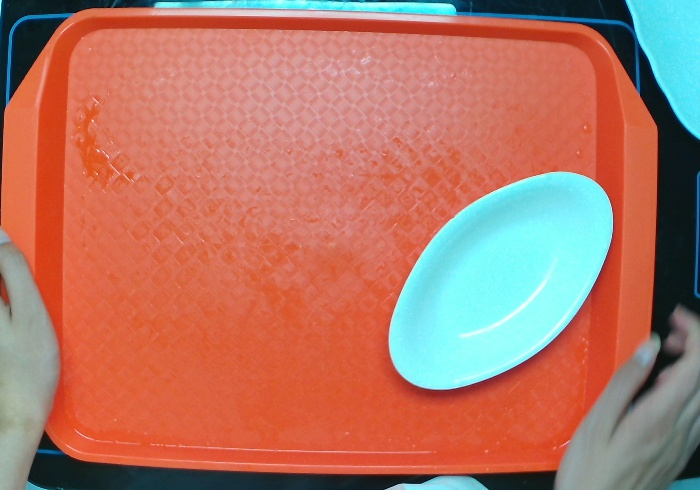RJxy-Bai_Se_Tuo_Yuan: (387, 169, 615, 392)
